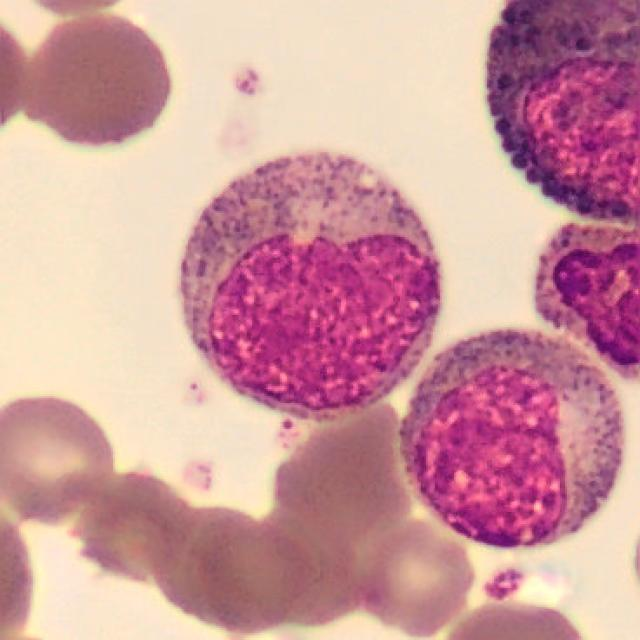Mielocito: (397, 329, 626, 550)
